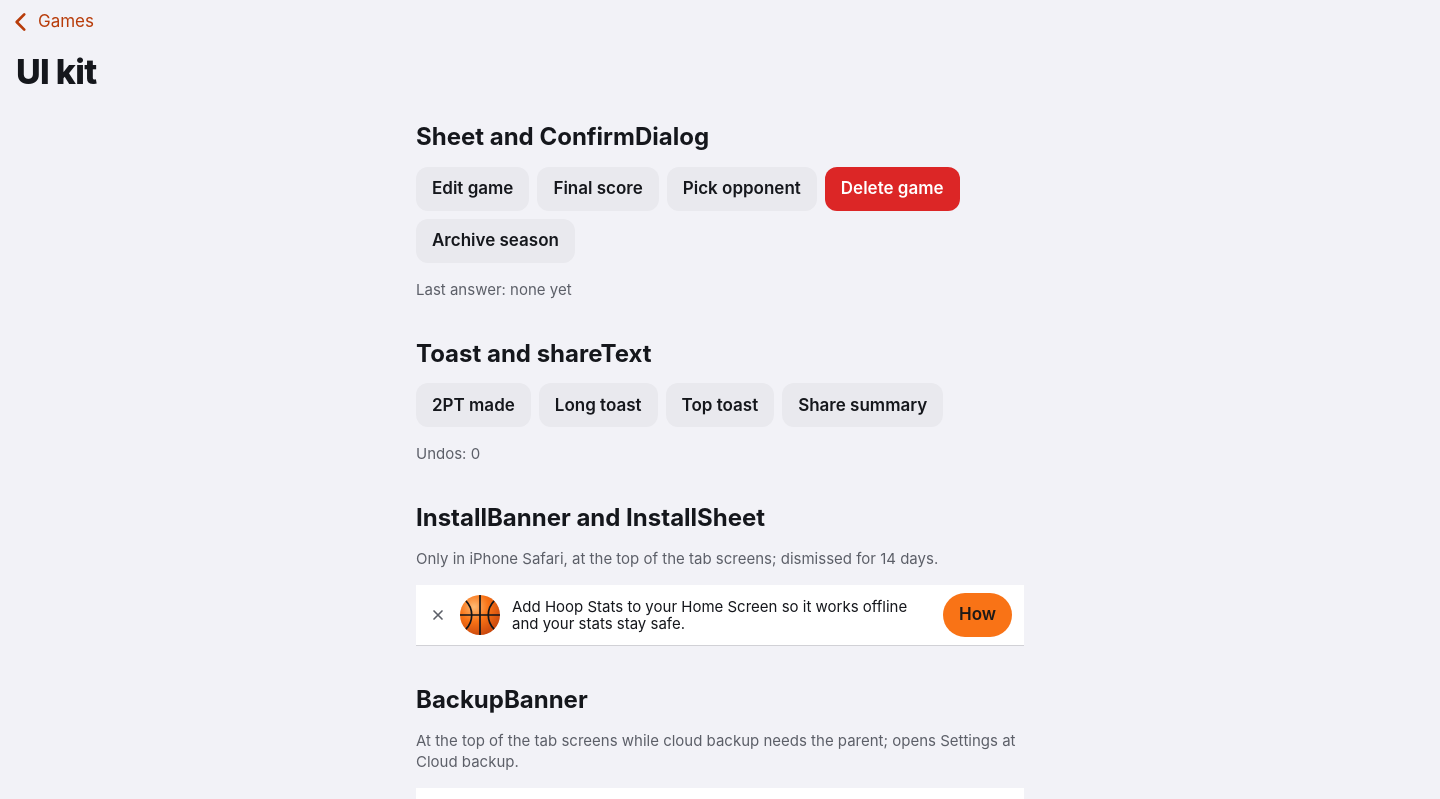
Test case: DevUiScreen › shows an undo toast whose action runs once
(page scrolled)
Expected: the heading "UI kit" is shown, [16, 52, 97, 91]
Click the button "2PT made".
click(473, 406)  # box [416, 384, 531, 428]
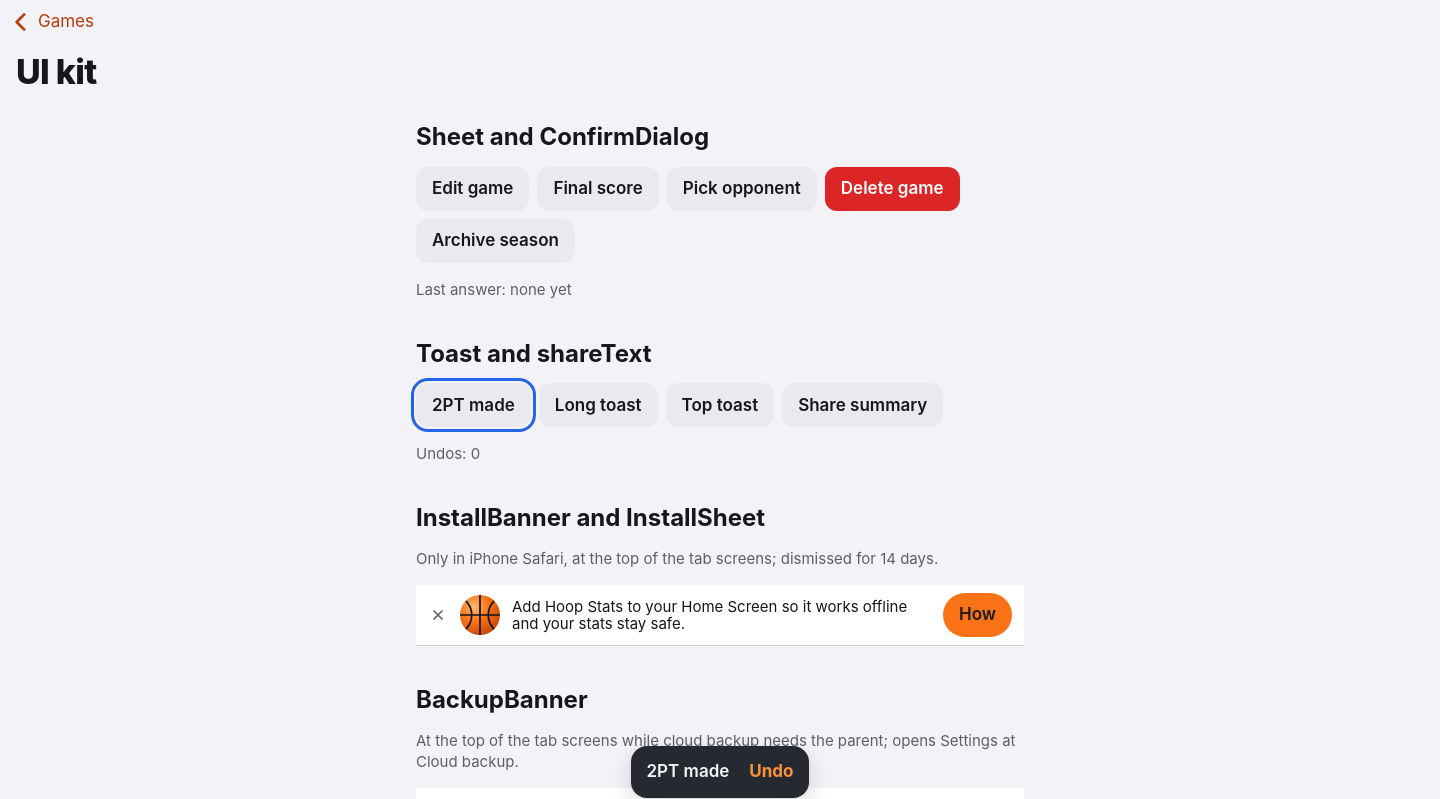
Click the button "Undo".
click(771, 772)  # box [737, 750, 806, 794]
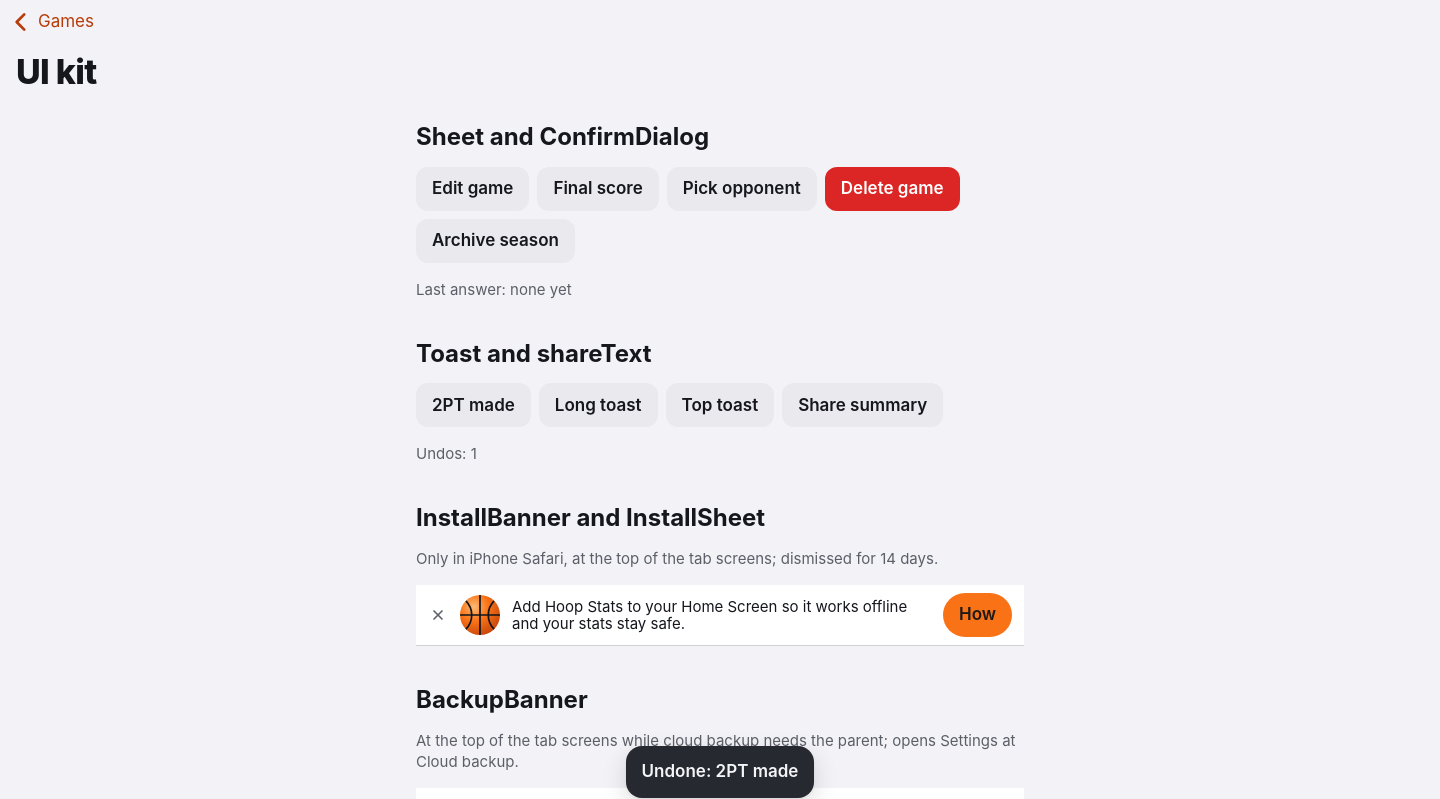
Expected: the text "Undos: 1" is shown, [416, 444, 477, 464]
Expected: the text "Undone: 2PT made" is shown, [642, 761, 798, 781]
